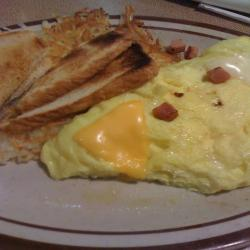bread: (5, 17, 151, 123)
omelette: (61, 41, 250, 197)
